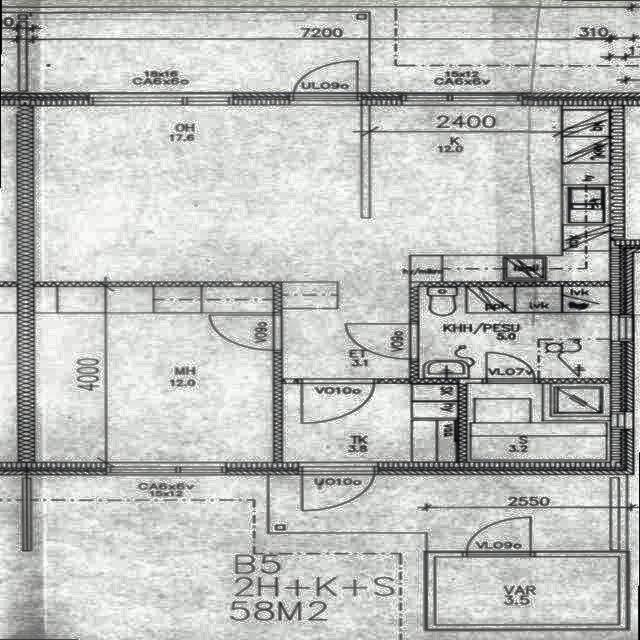room: (34, 287, 273, 462), (419, 287, 610, 378), (284, 383, 457, 462), (435, 556, 619, 625), (468, 384, 610, 462)
